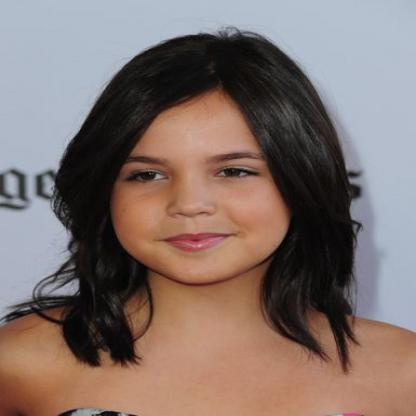long-hair: (16, 286, 372, 352)
